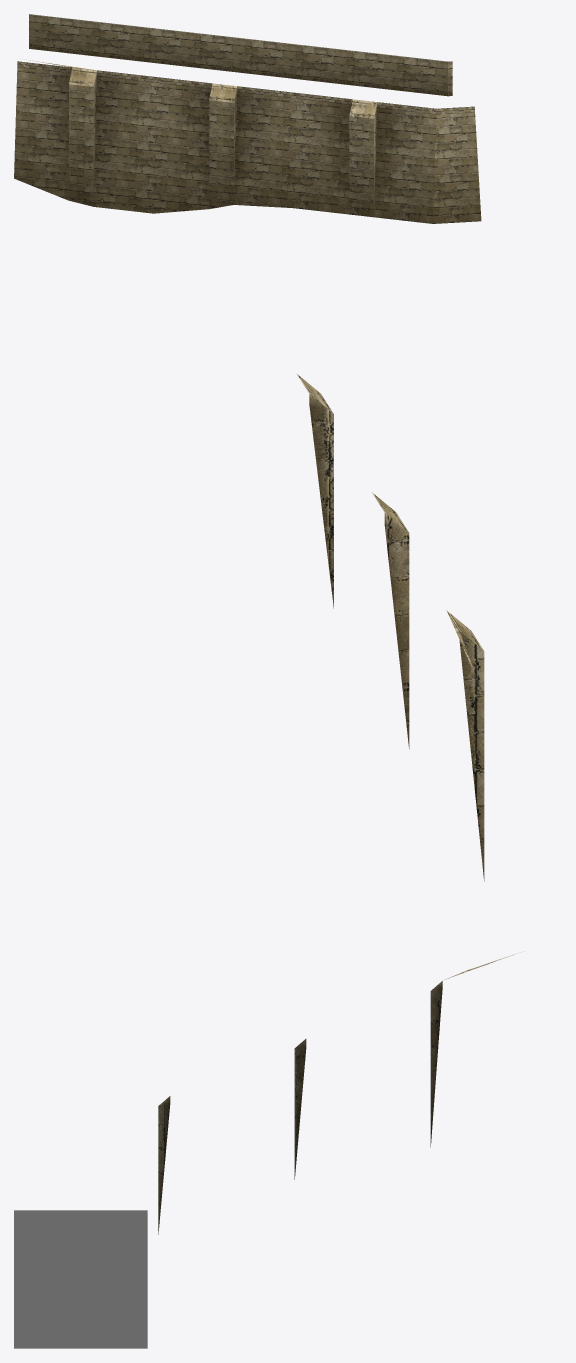
File: Mission12_ExteriorWalls01D.glb
3 renders of one model, top to bottom at view 1: azimuth 30°, elevation 25°; view 2: azimuth 150°, elevation 25°; view 3: azimuth 270°, elevation 25°, orthographic. The views are drawn at different scales.
Visible parts, largest first — view 1: MISSION12_EXTERIORWALLS01D; view 2: MISSION12_EXTERIORWALLS01D; view 3: MISSION12_EXTERIORWALLS01D.
Boxes of the visible parts, x1,y1,x2,y2 form: MISSION12_EXTERIORWALLS01D: (14, 14, 481, 223); MISSION12_EXTERIORWALLS01D: (296, 373, 484, 881); MISSION12_EXTERIORWALLS01D: (14, 952, 520, 1348).
Size of the model in its own units: 32.69 by 13.84 by 32.33.
Materials: 3 (2 with a texture image).
